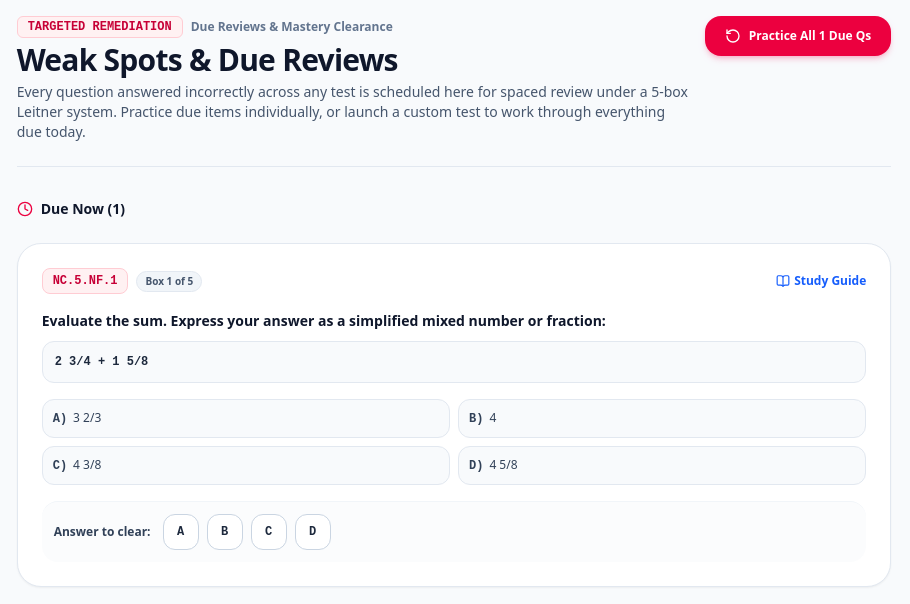
WeakSpotsView › reports a 1-day interval on an incorrect retry
Click the button "A" at (180, 532), box [162,514,198,550]
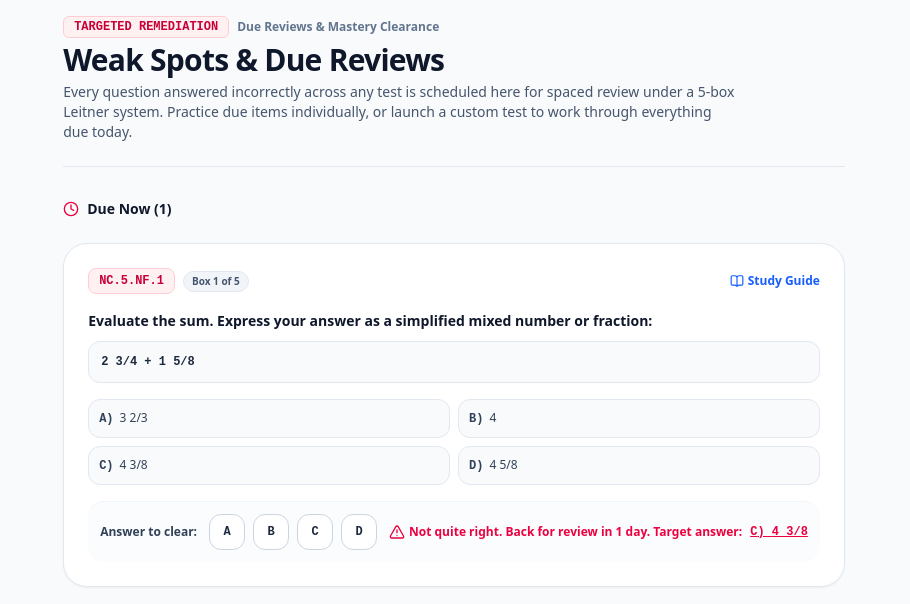
Expected: the text "Back for review in 1 day." is shown, [409,523,650,540]
